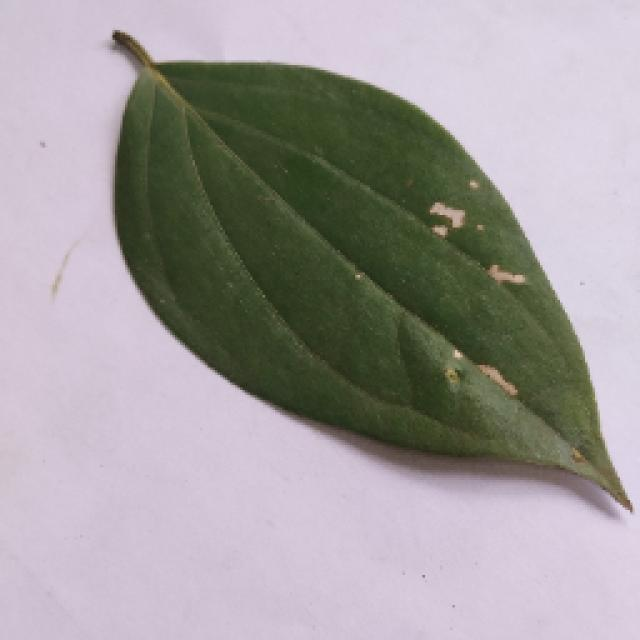pollu-disease: (65, 28, 630, 522)
